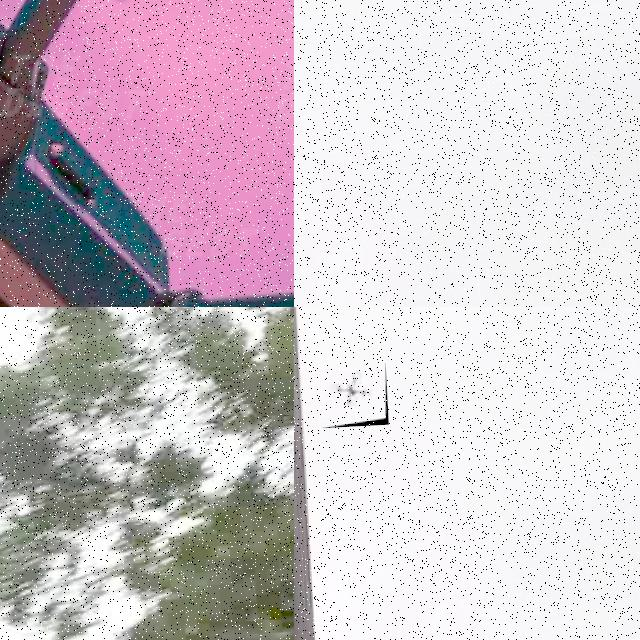0: (318, 362, 389, 428)
drone: (0, 0, 294, 307)
